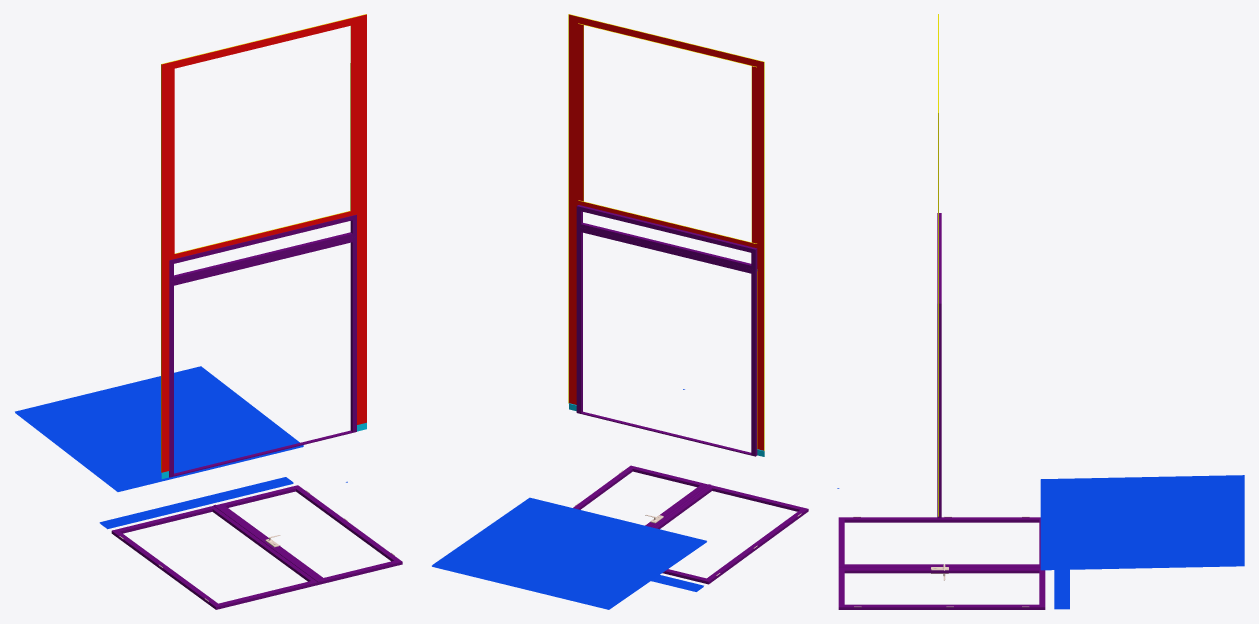
Rendered from _Porte_Fenetre.fbx.
The picture shows the model from 3 angles, left to right: view 1: azimuth 30°, elevation 25°; view 2: azimuth 150°, elevation 25°; view 3: azimuth 270°, elevation 25°; orthographic projection. The views are drawn at different scales.
Parts seen in each view (by area): view 1: SM_Door_Frame_C, SM_Glass_C.002, SM_Door_L_C, SM_Door_R_C, SM_Glass_C.001; view 2: SM_Door_Frame_C, SM_Glass_C.002, SM_Door_L_C, SM_Door_R_C; view 3: SM_Glass_C.002, SM_Door_R_C, SM_Door_L_C, SM_Door_Frame_C, SM_Glass_C.001.
Boxes of the visible parts, bbox=[...] form: SM_Door_Frame_C: bbox=[161, 14, 366, 478]; SM_Glass_C.002: bbox=[15, 366, 303, 491]; SM_Door_L_C: bbox=[111, 506, 319, 609]; SM_Door_R_C: bbox=[213, 485, 402, 584]; SM_Glass_C.001: bbox=[99, 477, 293, 529]; SM_Door_Frame_C: bbox=[568, 14, 764, 456]; SM_Glass_C.002: bbox=[432, 497, 706, 609]; SM_Door_L_C: bbox=[653, 485, 808, 584]; SM_Door_R_C: bbox=[573, 465, 710, 527]; SM_Glass_C.002: bbox=[1040, 475, 1244, 570]; SM_Door_R_C: bbox=[838, 564, 1045, 609]; SM_Door_L_C: bbox=[838, 516, 1040, 565]; SM_Door_Frame_C: bbox=[937, 14, 941, 518]; SM_Glass_C.001: bbox=[1054, 569, 1069, 609].
Bounding box in the file's own units: 231 × 552 × 401.
